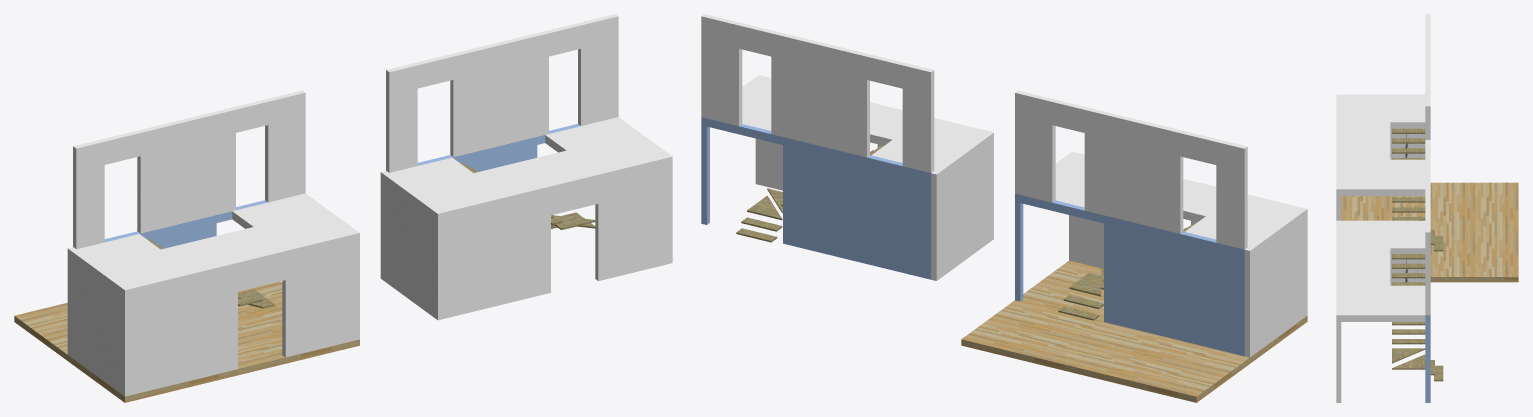
Rendered from stairs.glb.
The picture shows the model from 3 angles, left to right: view 1: azimuth 30°, elevation 25°; view 2: azimuth 150°, elevation 25°; view 3: azimuth 270°, elevation 25°; orthographic projection. The views are drawn at different scales.
Parts seen in each view (by area): view 1: instance_19, instance_2, instance_24, instance_4, instance_3, instance_20, instance_37, instance_0, instance_23; view 2: instance_4, instance_24, instance_0, instance_23, instance_37, instance_19, instance_2, instance_20, instance_3; view 3: instance_37, instance_20, instance_3, instance_2, instance_19, instance_4, instance_24, instance_0, instance_16, instance_15, instance_13, instance_27 (+8 smaller).
Part boxes in pixels (bbox=[...]): instance_19: bbox=[67, 230, 359, 396]; instance_2: bbox=[380, 154, 672, 320]; instance_24: bbox=[73, 90, 305, 249]; instance_4: bbox=[386, 14, 618, 172]; instance_3: bbox=[390, 117, 668, 210]; instance_20: bbox=[77, 193, 355, 286]; instance_37: bbox=[14, 281, 359, 402]; instance_0: bbox=[417, 124, 580, 171]; instance_23: bbox=[104, 200, 267, 248]; instance_4: bbox=[701, 14, 934, 172]; instance_24: bbox=[1015, 90, 1247, 249]; instance_0: bbox=[701, 117, 930, 279]; instance_23: bbox=[1015, 193, 1244, 356]; instance_37: bbox=[961, 260, 1307, 402]; instance_19: bbox=[1069, 151, 1307, 357]; instance_2: bbox=[755, 75, 993, 280]; instance_20: bbox=[1055, 154, 1297, 246]; instance_3: bbox=[742, 77, 984, 170]; instance_37: bbox=[1341, 182, 1518, 282]; instance_20: bbox=[1341, 97, 1425, 195]; instance_3: bbox=[1341, 223, 1425, 321]; instance_2: bbox=[1336, 220, 1425, 402]; instance_19: bbox=[1336, 94, 1425, 220]; instance_4: bbox=[1425, 140, 1430, 315]; instance_24: bbox=[1425, 14, 1430, 139]; instance_0: bbox=[1425, 315, 1430, 402]; instance_16: bbox=[1392, 354, 1425, 369]; instance_15: bbox=[1392, 348, 1425, 363]; instance_13: bbox=[1392, 329, 1425, 334]; instance_27: bbox=[1392, 138, 1425, 143].
Size of the model in its own units: 14.81 by 5.51 by 5.19.
Materials: 10 (2 with a texture image).
